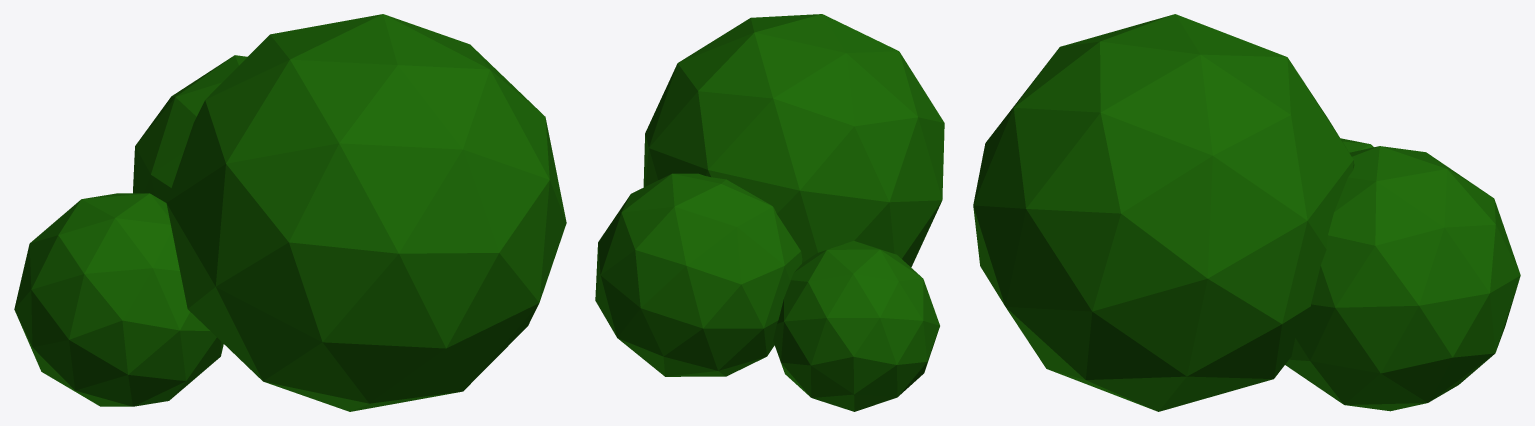
The model's file is Bush.fbx.
The picture shows the model from 3 angles, left to right: view 1: azimuth 30°, elevation 25°; view 2: azimuth 150°, elevation 25°; view 3: azimuth 270°, elevation 25°; orthographic projection. The views are drawn at different scales.
Parts seen in each view (by area): view 1: Icosphere, Icosphere.002, Icosphere.001; view 2: Icosphere, Icosphere.001, Icosphere.002; view 3: Icosphere, Icosphere.001.
Part boxes in pixels (bbox=[...]): Icosphere: bbox=[166, 14, 566, 411]; Icosphere.002: bbox=[14, 193, 223, 406]; Icosphere.001: bbox=[133, 55, 247, 202]; Icosphere: bbox=[643, 14, 944, 267]; Icosphere.001: bbox=[595, 173, 802, 376]; Icosphere.002: bbox=[773, 241, 939, 411]; Icosphere: bbox=[973, 14, 1354, 411]; Icosphere.001: bbox=[1285, 146, 1520, 411].
Bounding box in the file's own units: 541 × 464 × 616.
